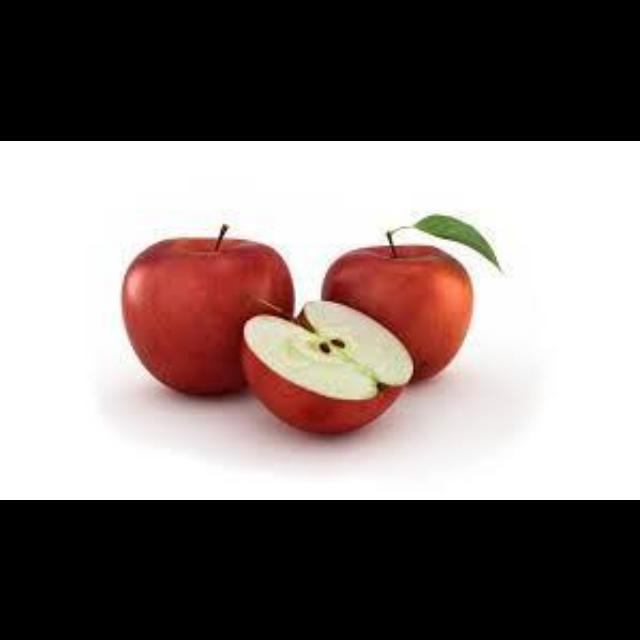apple: (321, 213, 499, 380), (122, 223, 293, 393), (242, 301, 411, 431)
